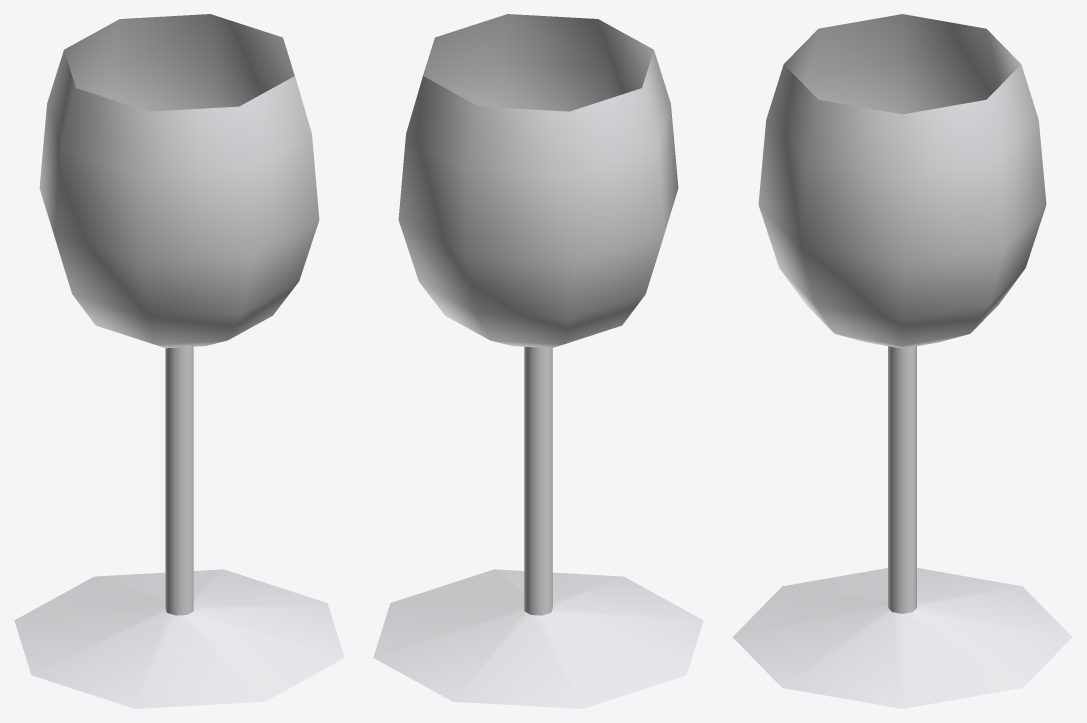
The model's file is Wine Glass.glb.
The picture shows the model from 3 angles, left to right: view 1: azimuth 30°, elevation 25°; view 2: azimuth 150°, elevation 25°; view 3: azimuth 270°, elevation 25°; orthographic projection.
Visible parts, largest first — view 1: sercups_wine_glass_Cylinder.123; view 2: sercups_wine_glass_Cylinder.123; view 3: sercups_wine_glass_Cylinder.123.
Part boxes in pixels (x1,y1,x2,y2): sercups_wine_glass_Cylinder.123: (14, 14, 344, 708); sercups_wine_glass_Cylinder.123: (373, 14, 703, 708); sercups_wine_glass_Cylinder.123: (733, 14, 1071, 708).
Size of the model in its own units: 2 by 3.72 by 2.
1 material, 1 textured.
